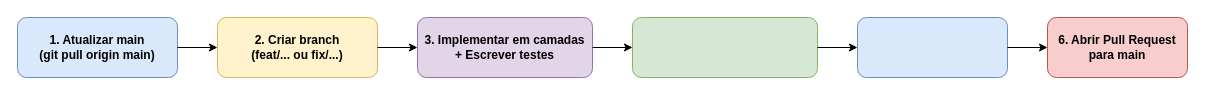
Image size: 1205x95. Some labels were removed from this diagram. Each missing label, with the centre of its shape:
"4. Rodar pytest (docker compose exec web pytest)" goes at pixel 725 47.
"5. Commit e Push (mensagens claras)" goes at pixel 932 47.
